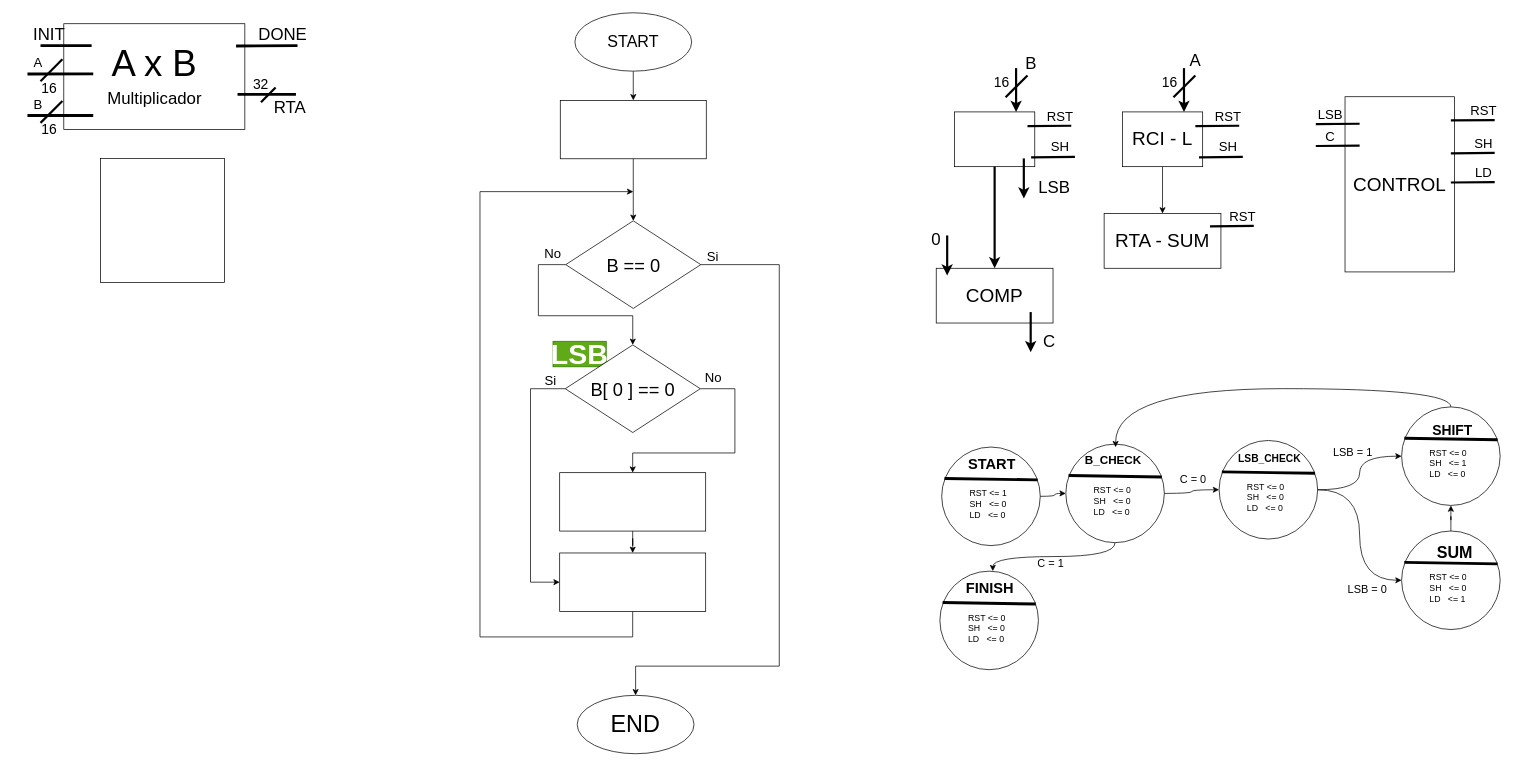
The diagram is 1521 pixels wide and 767 high, and some of its shapes have lost their labels. The shapes that lost their labels are listed below. From the top down, each one's box as (x1, y1, x2, y2) in pixels, then its label:
(560, 100, 706, 159): A [15,0] = 0 B [15,0] = 0 RTA [31,0] = 0
(954, 111, 1035, 167): RCI - R
(100, 158, 224, 283): SHIFT-R SHIFT-L ACC """ i CLOCK
(559, 472, 706, 531): RTA = RTA + A
(559, 552, 706, 611): A << 1 B >> 1
